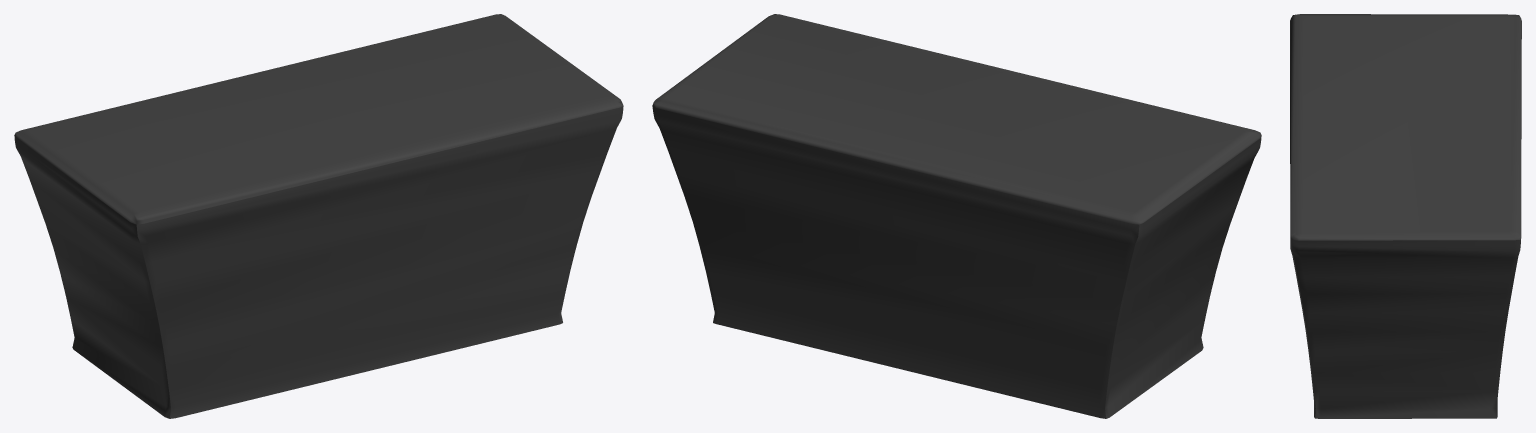
The model's file is multi-6ft-4.glb.
3 views of the same model, side by side, from view 1: azimuth 30°, elevation 25°; view 2: azimuth 150°, elevation 25°; view 3: azimuth 270°, elevation 25° (orthographic). The views are drawn at different scales.
Parts seen in each view (by area): view 1: geometry_0; view 2: geometry_0; view 3: geometry_0.
Boxes of the visible parts, bbox=[...] form: geometry_0: bbox=[14, 14, 623, 418]; geometry_0: bbox=[652, 14, 1261, 418]; geometry_0: bbox=[1290, 14, 1521, 418].
Bounding box in the file's own units: 1.82 × 0.7812 × 0.7954.
Materials: 1 (1 with a texture image).
